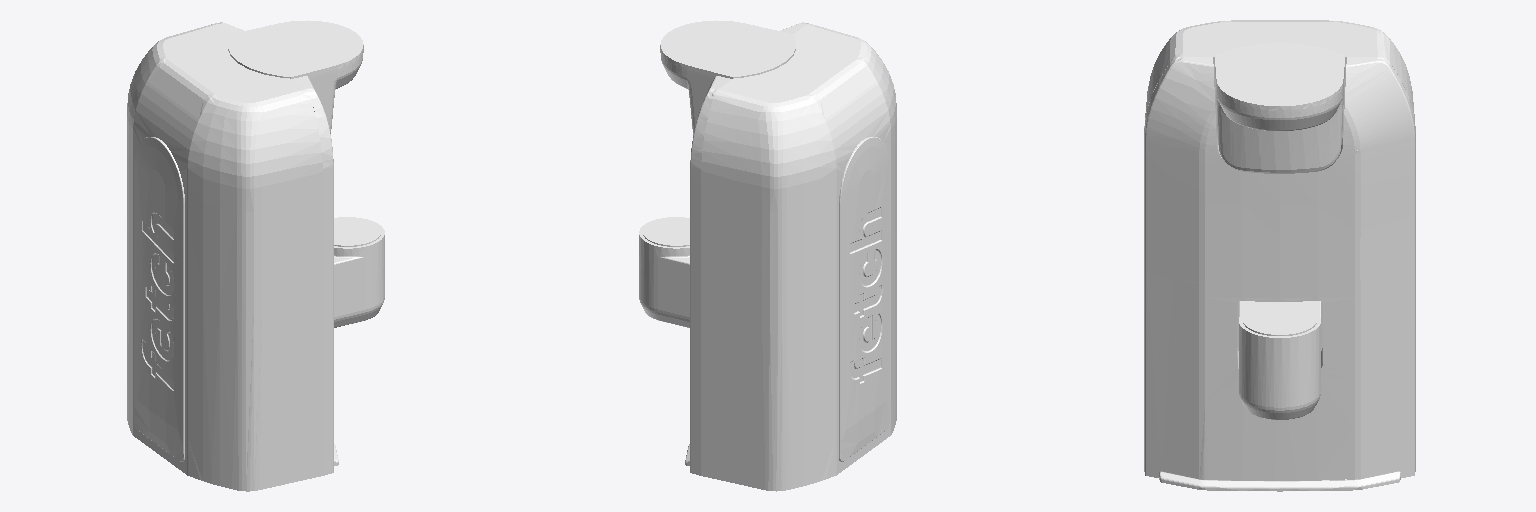
robot.urdf — torso_lift_link:
<robot name="torso_lift_link">
<link name="torso_lift_link">
    <inertial>
      <origin rpy="0 0 0" xyz="-0.0013 -0.0009 0.2935" />
      <mass value="10.7796" />
      <inertia ixx="0.3354" ixy="0.0" ixz="-0.0162" iyy="0.3354" iyz="-0.0006" izz="0.0954" />
    </inertial>
    <visual>
      <origin rpy="0 0 0" xyz="0 0 0" />
      <geometry>
        <mesh filename="package://fetch_description/meshes/torso_lift_link.obj" />
      </geometry>
      <material name="">
        <color rgba="1 1 1 1" />
      </material>
    </visual>
    <collision>
      <origin rpy="0 0 0" xyz="0 0 0" />
      <geometry>
        <mesh filename="package://fetch_description/meshes/torso_lift_link_collision.STL" />
      </geometry>
    </collision>
  </link>
</robot>

--- What the picture shows (computed from the rendered views, not written in the file) ---
The picture shows the robot from 3 angles, left to right: view 1: azimuth 30°, elevation 25°; view 2: azimuth 150°, elevation 25°; view 3: azimuth 270°, elevation 25°; orthographic projection.
Robot: torso_lift_link — 1 links, 0 joints (none); root link torso_lift_link; default pose: every joint at zero.
Links seen in each view (by area): view 1: torso_lift_link; view 2: torso_lift_link; view 3: torso_lift_link.
Link boxes in pixels (x1=…): torso_lift_link: x1=127, y1=20, x2=384, y2=491; torso_lift_link: x1=639, y1=20, x2=896, y2=491; torso_lift_link: x1=1144, y1=20, x2=1415, y2=491.
Size in the robot's own frame: 0.3567 by 0.3417 by 0.5745 metres.
1 mesh visuals loaded from 1 distinct referenced files (1 OBJ).